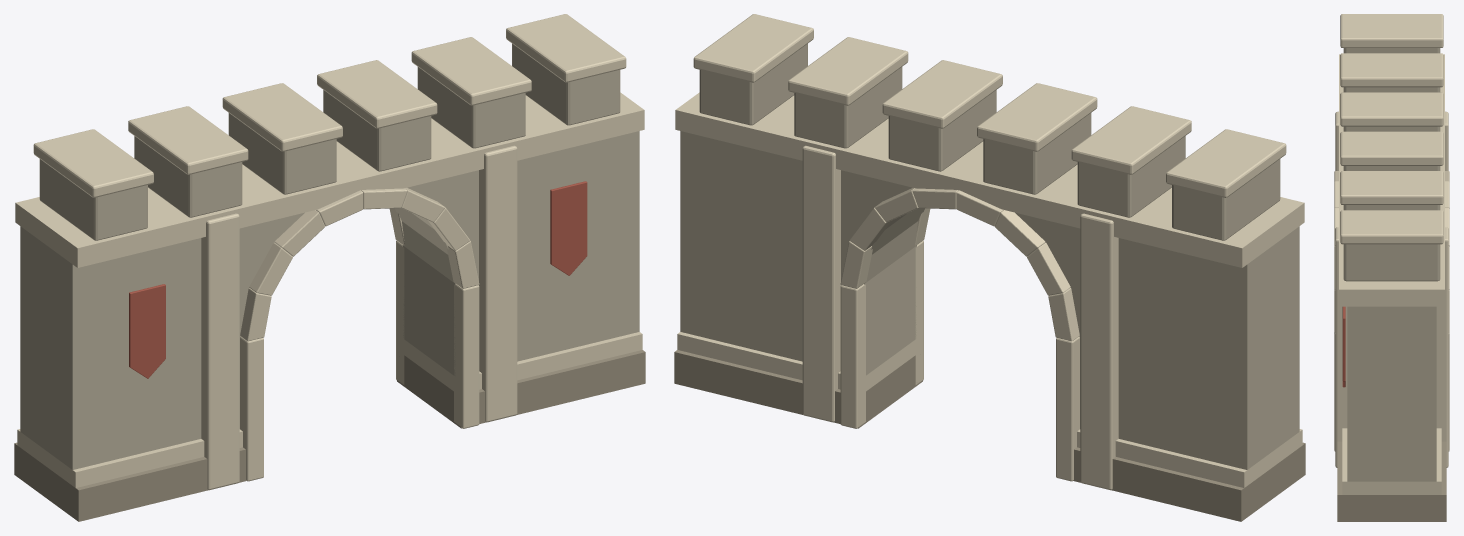
The model's file is Kingdom_Wall_Gate.fbx.
3 views of the same model, side by side, from view 1: azimuth 30°, elevation 25°; view 2: azimuth 150°, elevation 25°; view 3: azimuth 270°, elevation 25° (orthographic). The views are drawn at different scales.
Parts seen in each view (by area): view 1: Kingdom_Wall_Gate_Mesh; view 2: Kingdom_Wall_Gate_Mesh; view 3: Kingdom_Wall_Gate_Mesh.
Boxes of the visible parts, x1,y1,x2,y2 form: Kingdom_Wall_Gate_Mesh: (14, 14, 645, 521); Kingdom_Wall_Gate_Mesh: (674, 14, 1305, 521); Kingdom_Wall_Gate_Mesh: (1334, 14, 1449, 521).
Size of the model in its own units: 6 by 3.33 by 1.24.
